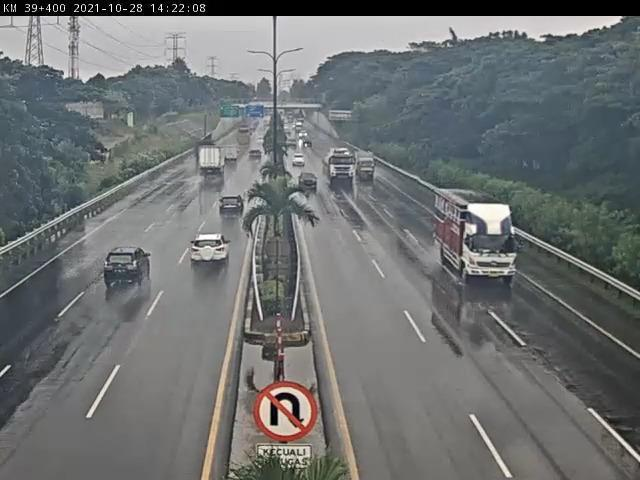car: (103, 246, 153, 289), (191, 233, 231, 265), (219, 197, 245, 218), (298, 170, 320, 190)
truck: (435, 190, 521, 285), (324, 146, 358, 182), (199, 145, 229, 177), (356, 153, 378, 182)
